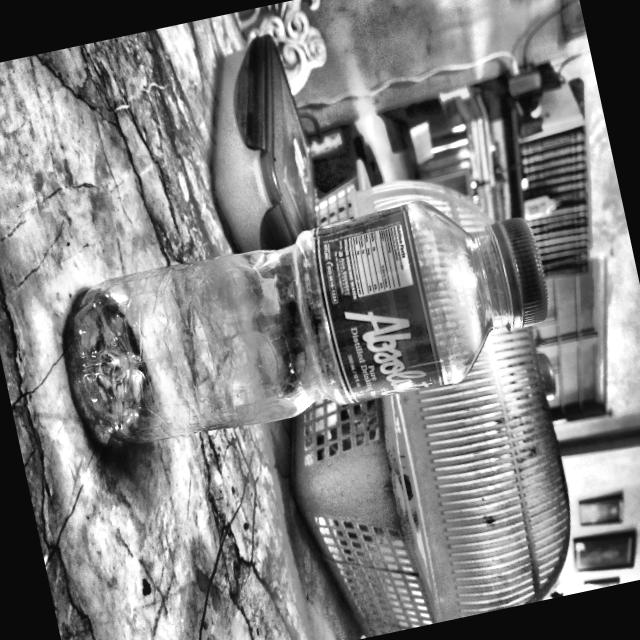Plastic-Bottle: (46, 172, 565, 464)
